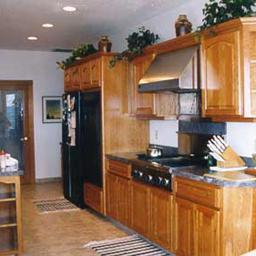Electrodomestico: (61, 92, 83, 204), (80, 94, 102, 185), (137, 159, 171, 192)
Puerta: (2, 83, 36, 181)
